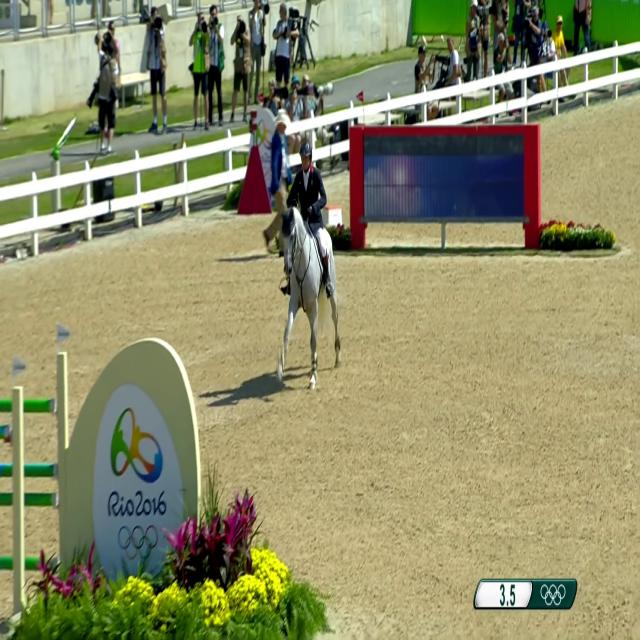Horse Running: (266, 167, 363, 399)
